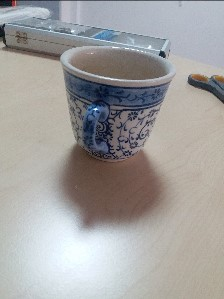cup: (60, 44, 175, 162)
